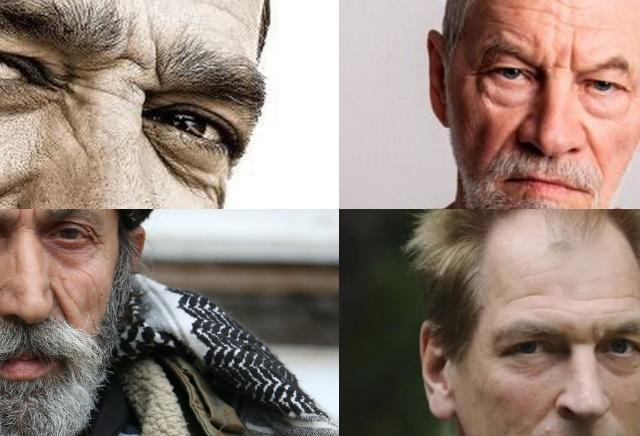crows_feet: (466, 60, 488, 90), (86, 230, 104, 254)
forehead: (511, 284, 542, 304), (603, 290, 640, 304), (545, 0, 570, 10)
frown_line: (118, 26, 162, 84), (562, 41, 576, 75), (588, 322, 600, 346), (27, 209, 41, 228), (11, 209, 26, 225)
gummy_smile: (49, 286, 71, 322), (492, 122, 516, 152), (581, 126, 599, 158)
